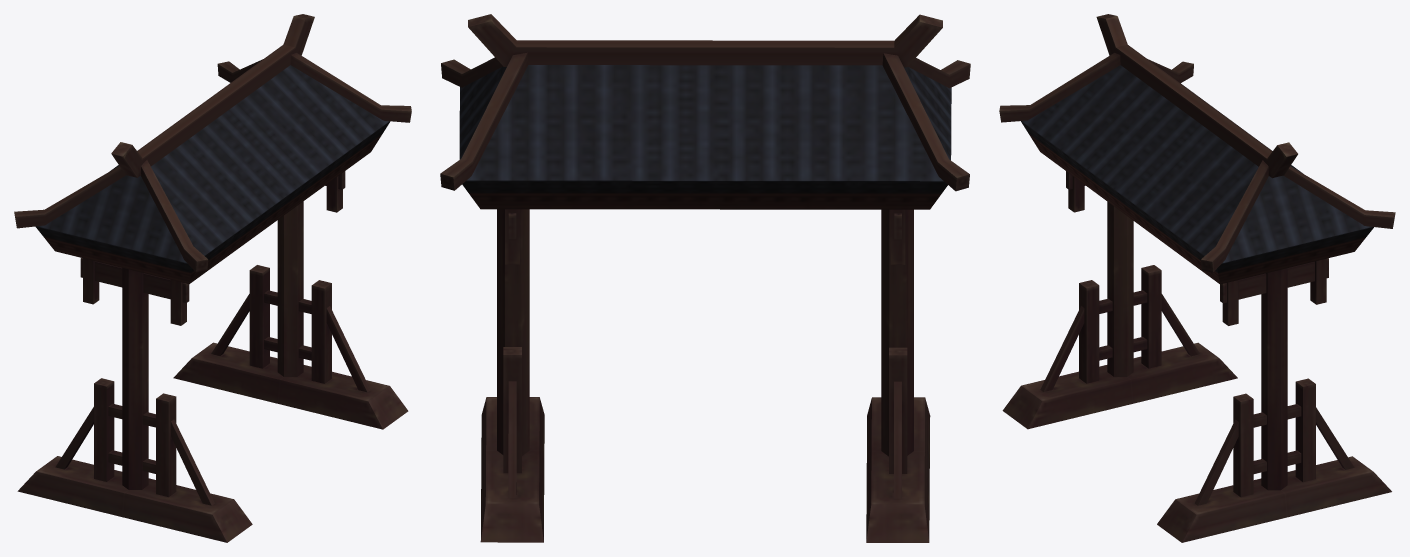
File: Area_03_10.fbx
The picture shows the model from 3 angles, left to right: view 1: azimuth 30°, elevation 25°; view 2: azimuth 150°, elevation 25°; view 3: azimuth 270°, elevation 25°; orthographic projection. The views are drawn at different scales.
Parts seen in each view (by area): view 1: Area_03_10; view 2: Area_03_10; view 3: Area_03_10.
Boxes of the visible parts, x1,y1,x2,y2 form: Area_03_10: (14,14,411,542); Area_03_10: (440,14,970,542); Area_03_10: (999,14,1395,542).
Size of the model in its own units: 1413 by 1219 by 1180.
